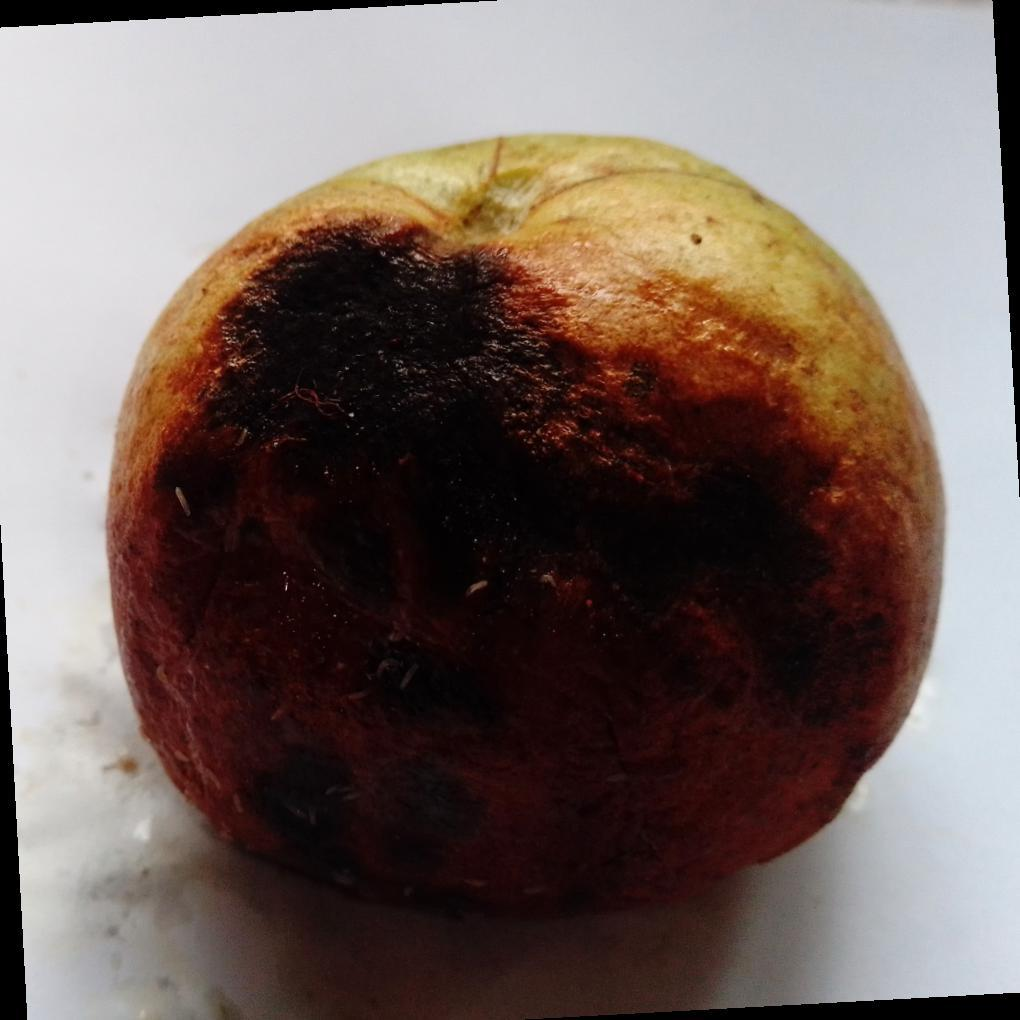FreshOrange: (105, 133, 949, 921)
